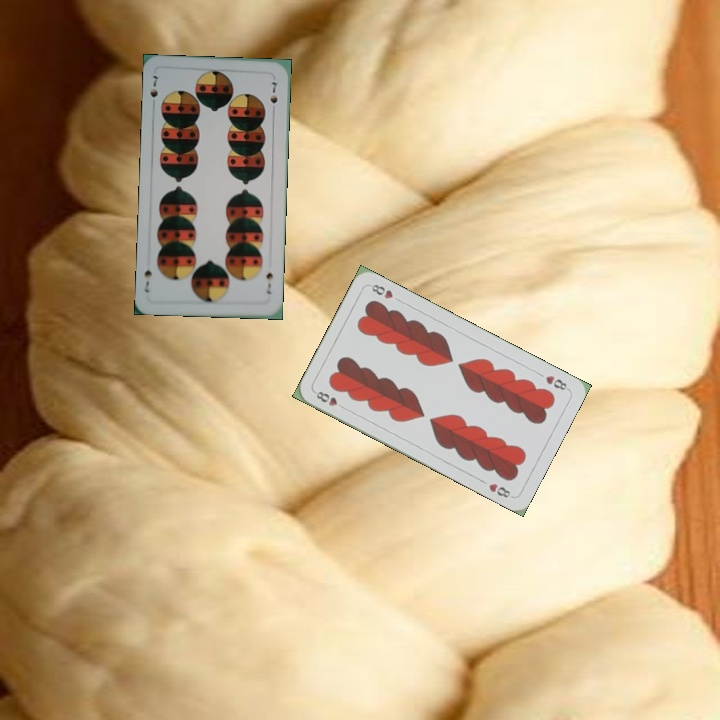H8: (311, 387, 349, 412), (542, 371, 571, 393)
S7: (146, 71, 161, 110), (262, 269, 275, 297)
